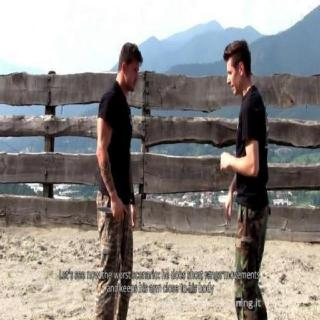knife: (94, 196, 124, 222)
